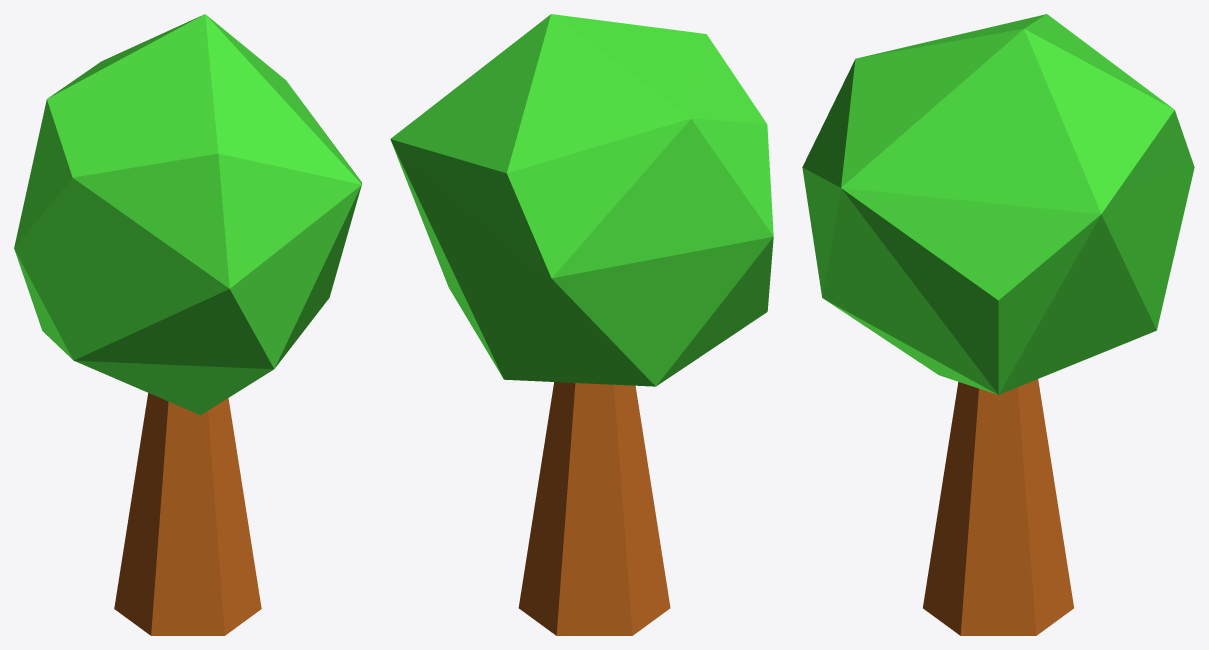
Rendered from Tree1.fbx.
3 renders of one model, left to right at view 1: azimuth 30°, elevation 25°; view 2: azimuth 150°, elevation 25°; view 3: azimuth 270°, elevation 25°, orthographic. The views are drawn at different scales.
Parts seen in each view (by area): view 1: Icosphere; view 2: Icosphere; view 3: Icosphere.
Part boxes in pixels (left/top/right/bottom): Icosphere: left=14, top=14, right=361, bottom=635; Icosphere: left=390, top=14, right=773, bottom=635; Icosphere: left=802, top=14, right=1194, bottom=635.
Bounding box in the file's own units: 2.09 × 3.32 × 1.99.
